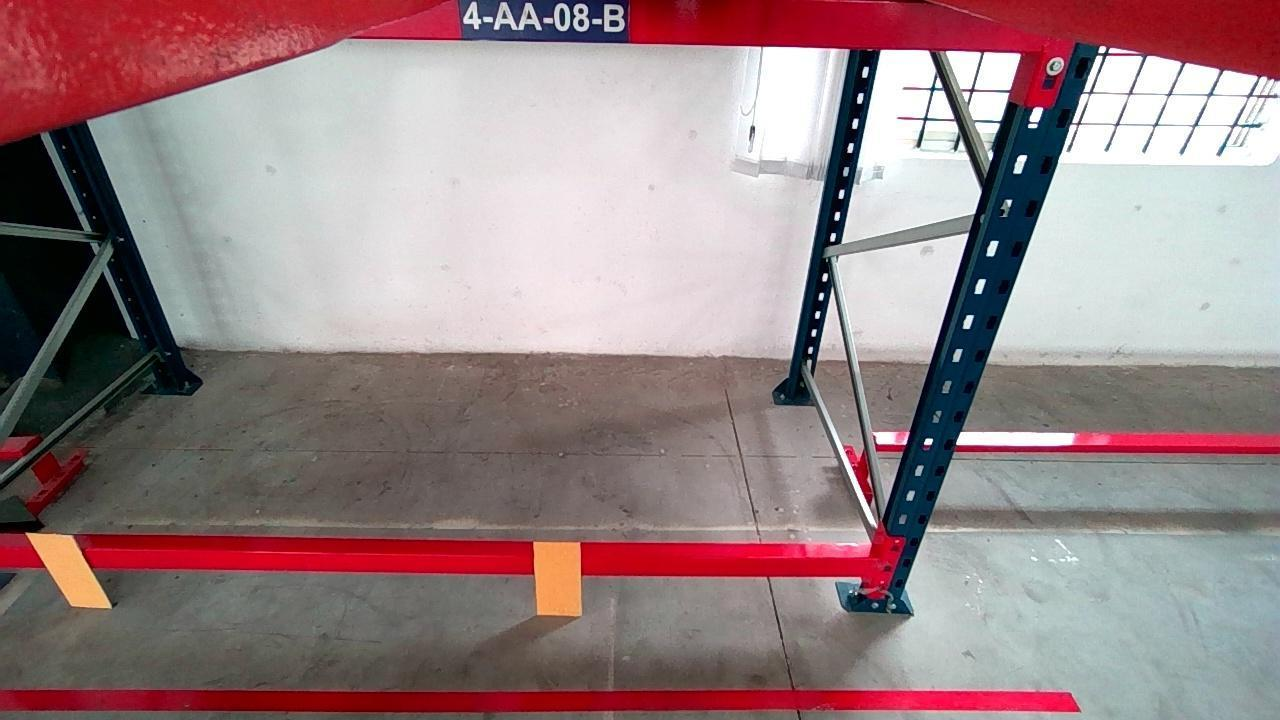h_rack: (351, 0, 1047, 50), (0, 543, 883, 574)
orange_strip: (21, 532, 109, 606), (534, 541, 583, 615)
red_line: (0, 689, 1081, 711)
